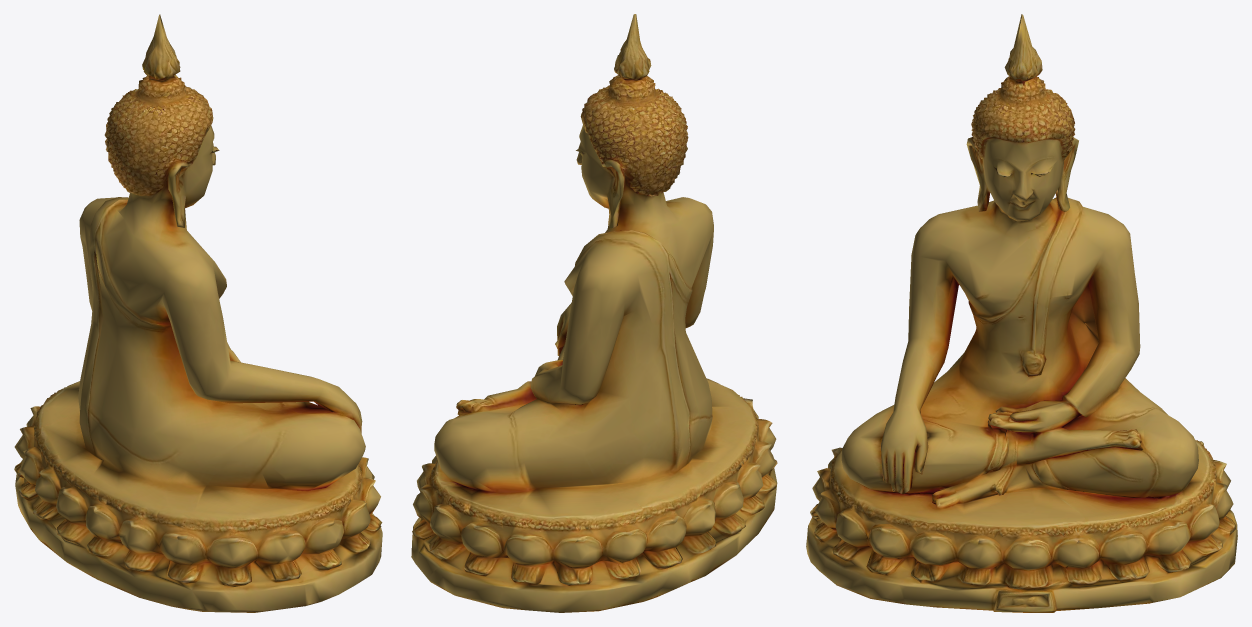
Rendered from buddha.glb.
The picture shows the model from 3 angles, left to right: view 1: azimuth 30°, elevation 25°; view 2: azimuth 150°, elevation 25°; view 3: azimuth 270°, elevation 25°; orthographic projection.
Visible parts, largest first — view 1: tripo_node_7385a807-8797-4fc4-90bf-a2997457be8f; view 2: tripo_node_7385a807-8797-4fc4-90bf-a2997457be8f; view 3: tripo_node_7385a807-8797-4fc4-90bf-a2997457be8f.
Boxes of the visible parts, <box> form: tripo_node_7385a807-8797-4fc4-90bf-a2997457be8f: <box>14,14,382,612</box>; tripo_node_7385a807-8797-4fc4-90bf-a2997457be8f: <box>411,14,777,612</box>; tripo_node_7385a807-8797-4fc4-90bf-a2997457be8f: <box>806,14,1237,612</box>.
Size of the model in its own units: 0.5542 by 0.9794 by 0.7434.
Materials: 1 (1 with a texture image).
